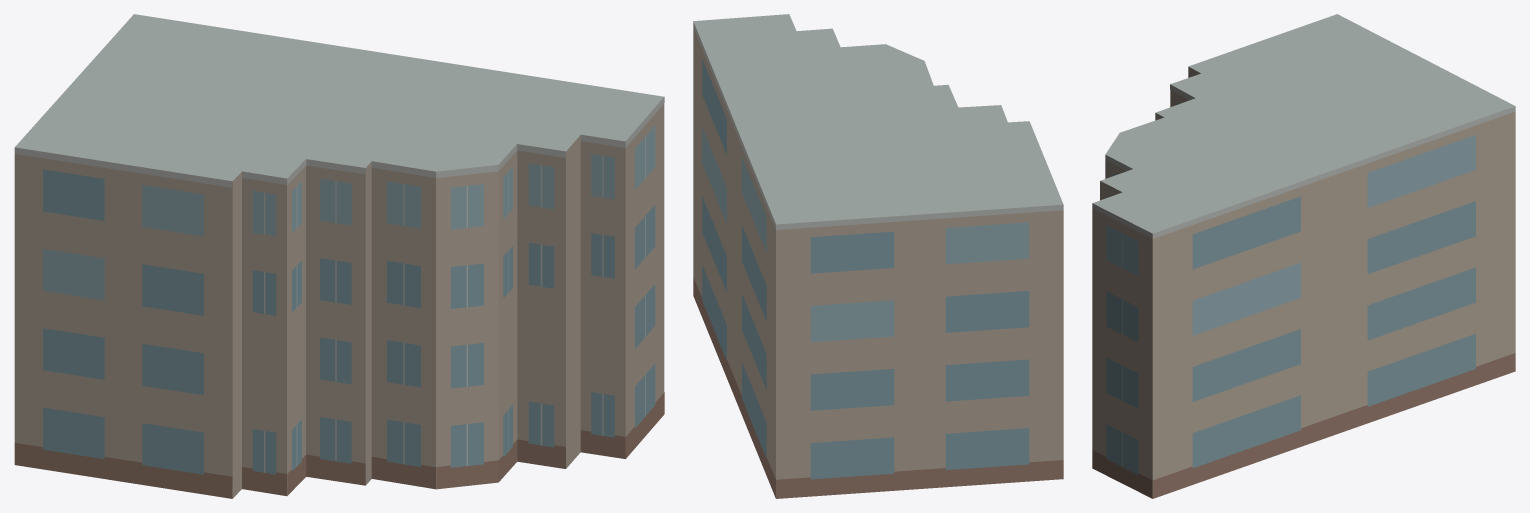
The model's file is survey-upis-32596674.glb.
3 views of the same model, side by side, from view 1: azimuth 30°, elevation 25°; view 2: azimuth 150°, elevation 25°; view 3: azimuth 270°, elevation 25° (orthographic). The views are drawn at different scales.
Visible parts, largest first — view 1: survey-upis-32596674.tmp; view 2: survey-upis-32596674.tmp; view 3: survey-upis-32596674.tmp.
Boxes of the visible parts, left/top/right/bottom form: survey-upis-32596674.tmp: left=14, top=14, right=664, bottom=498; survey-upis-32596674.tmp: left=693, top=14, right=1063, bottom=498; survey-upis-32596674.tmp: left=1092, top=14, right=1515, bottom=498.
Size of the model in its own units: 21.33 by 12 by 17.37.
